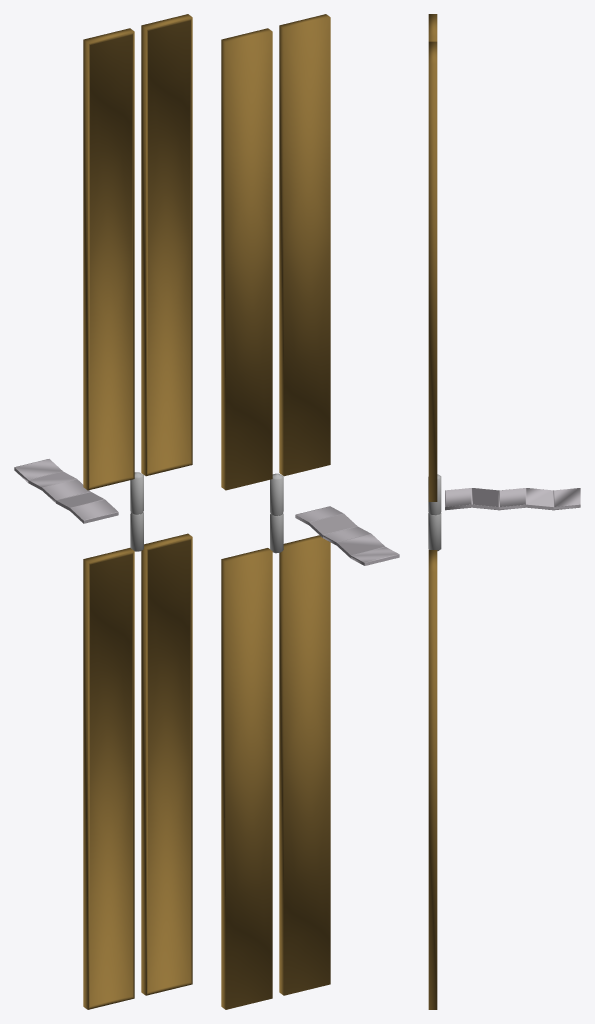
The model's file is iss-arrays-s4.glb.
The picture shows the model from 3 angles, left to right: view 1: azimuth 30°, elevation 25°; view 2: azimuth 210°, elevation 25°; view 3: azimuth 270°, elevation 25°; orthographic projection. The views are drawn at different scales.
Visible parts, largest first — view 1: arrays-s4; view 2: arrays-s4; view 3: arrays-s4.
Part boxes in pixels (x1,y1,x2,y2): arrays-s4: (14,14,192,1009); arrays-s4: (221,14,399,1009); arrays-s4: (428,14,580,1009).
Size of the model in its own units: 8.13 by 71.66 by 10.48.
1 material, 1 textured.
